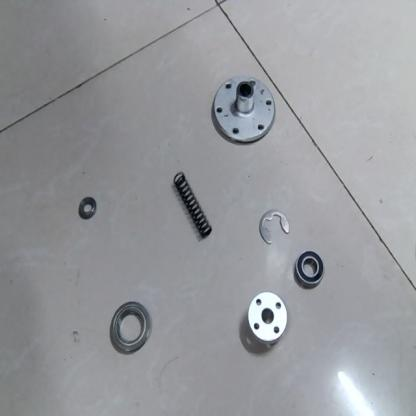FOD: (210, 72, 278, 146), (173, 168, 215, 243), (108, 298, 154, 359), (245, 290, 290, 350), (294, 250, 327, 293), (256, 208, 289, 249), (75, 195, 99, 220)
